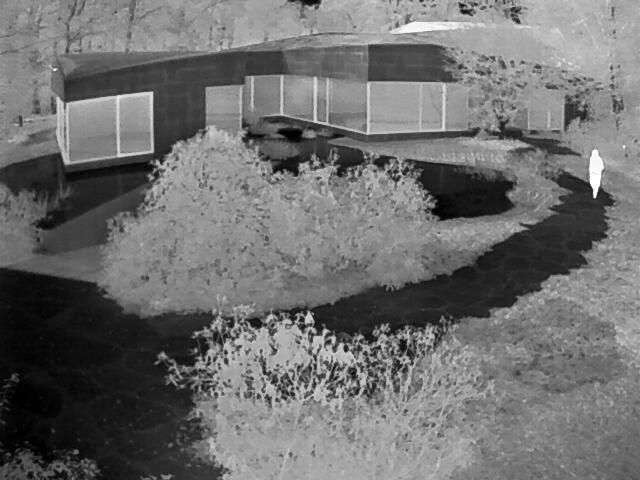person: (587, 148, 603, 199)
